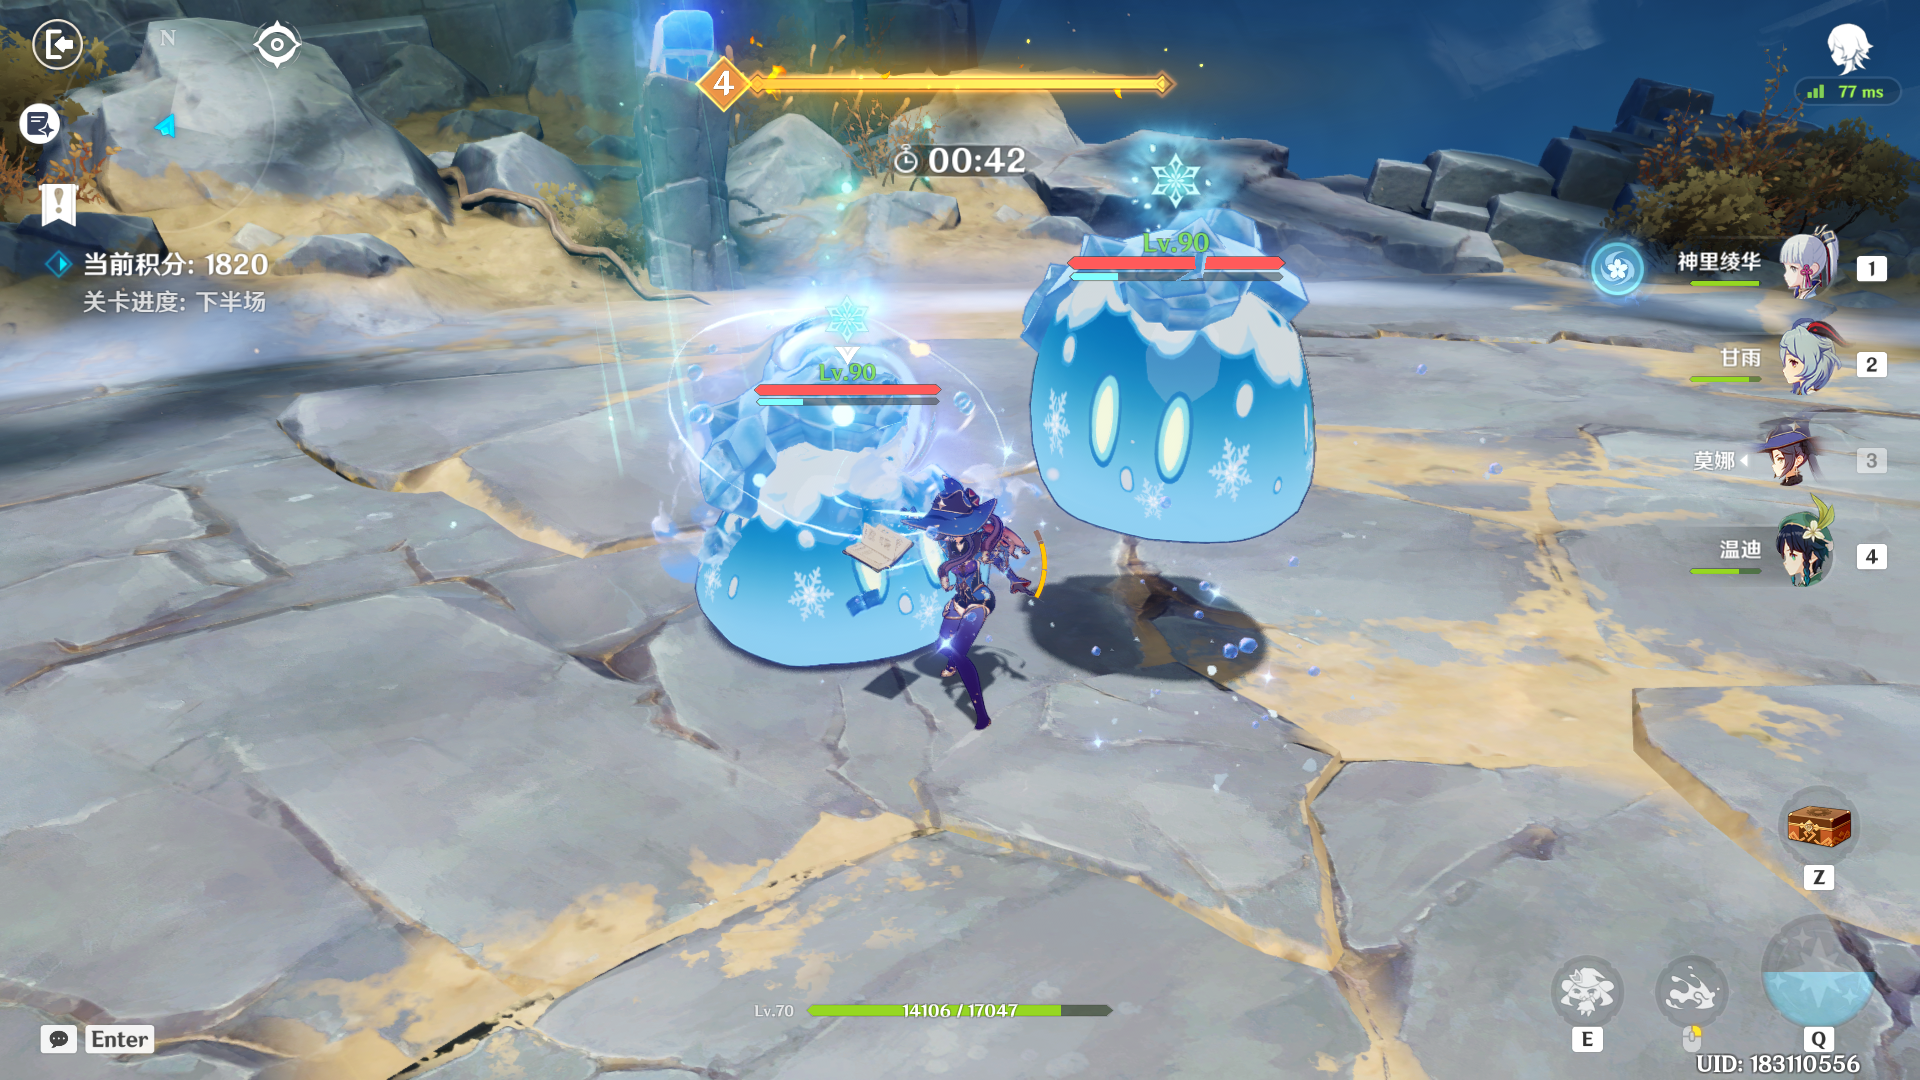character: (829, 439, 1091, 764)
slime: (1011, 208, 1375, 589), (640, 377, 977, 669)
